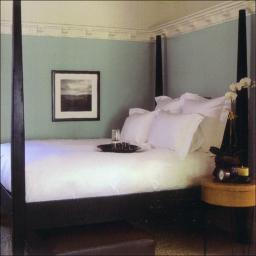Cama: (4, 99, 210, 227)
